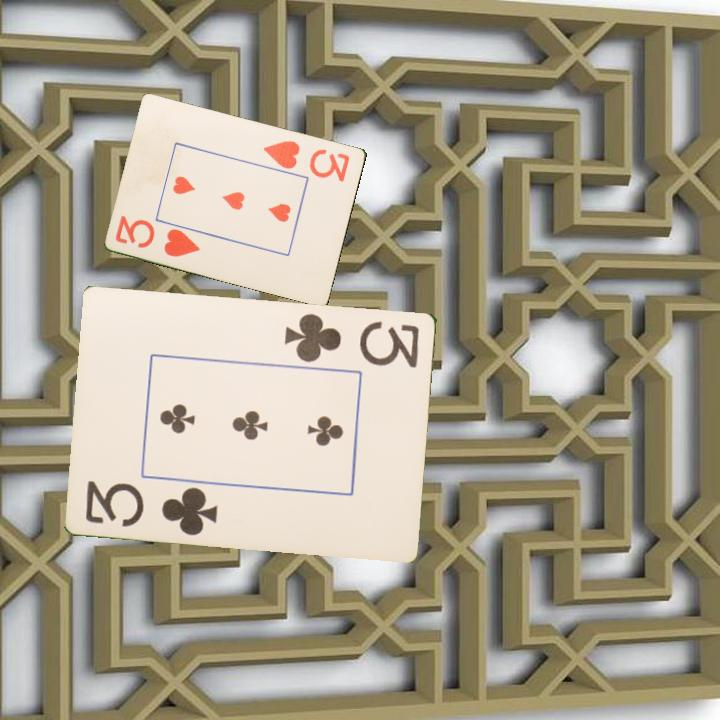3c: (82, 476, 221, 538), (281, 309, 422, 370)
3h: (260, 137, 353, 185), (112, 212, 204, 260)
